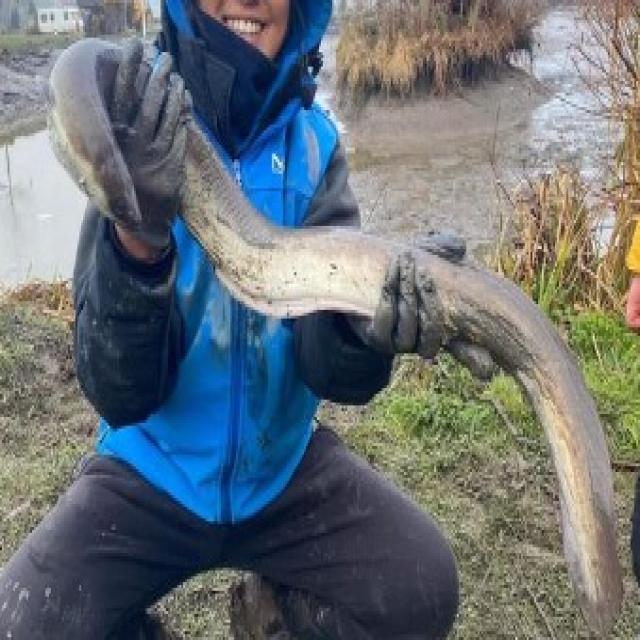Freshwater-Eel: (25, 3, 628, 615)
